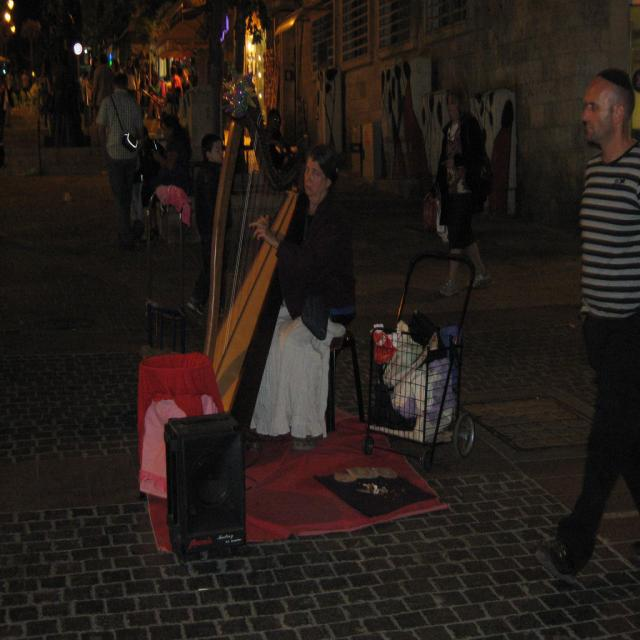harp: (204, 92, 304, 419)
